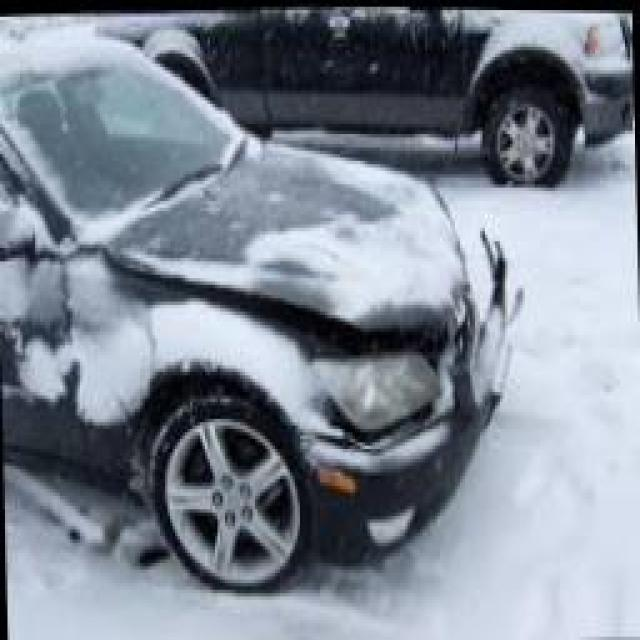replaceable: (294, 299, 462, 464)
